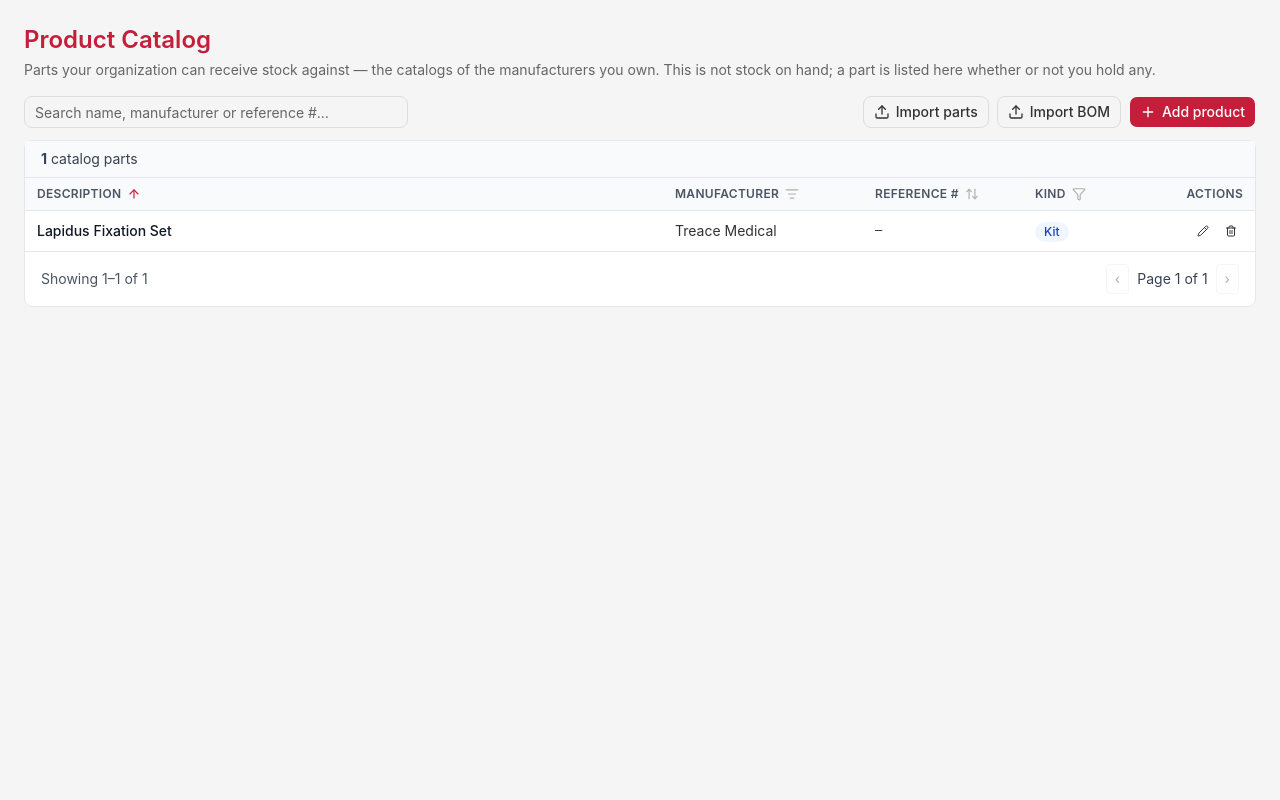
removing a part › keeps the dialog open on a 409 so the reason can be read
The width and height of the screenshot is (1280, 800).
Check: the link "Lapidus Fixation Set" is shown, box top-left (37, 222), bottom-right (172, 239)
Click the button named "Remove Lapidus Fixation Set" at coordinates (1231, 231), box top-left (1219, 219), bottom-right (1243, 243)
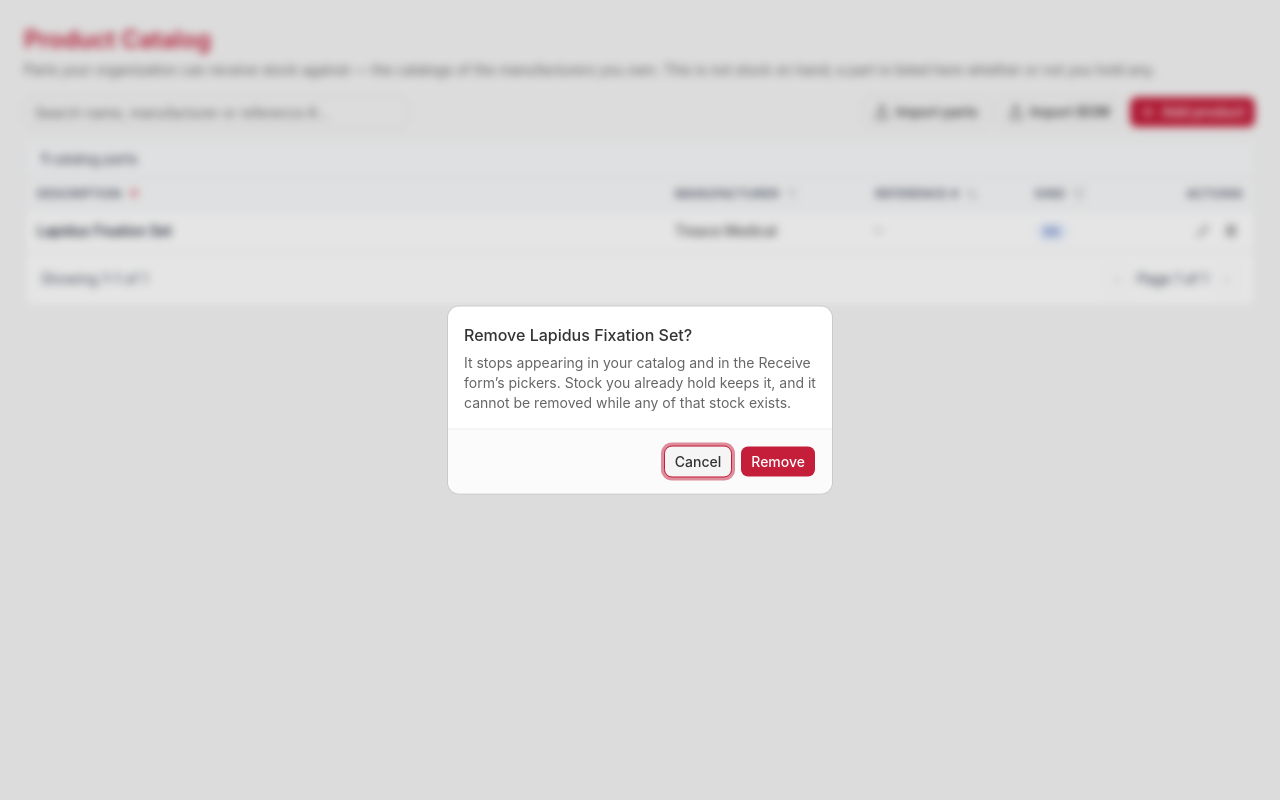
Click the button "Remove" at coordinates (778, 462), box top-left (740, 446), bottom-right (816, 478)
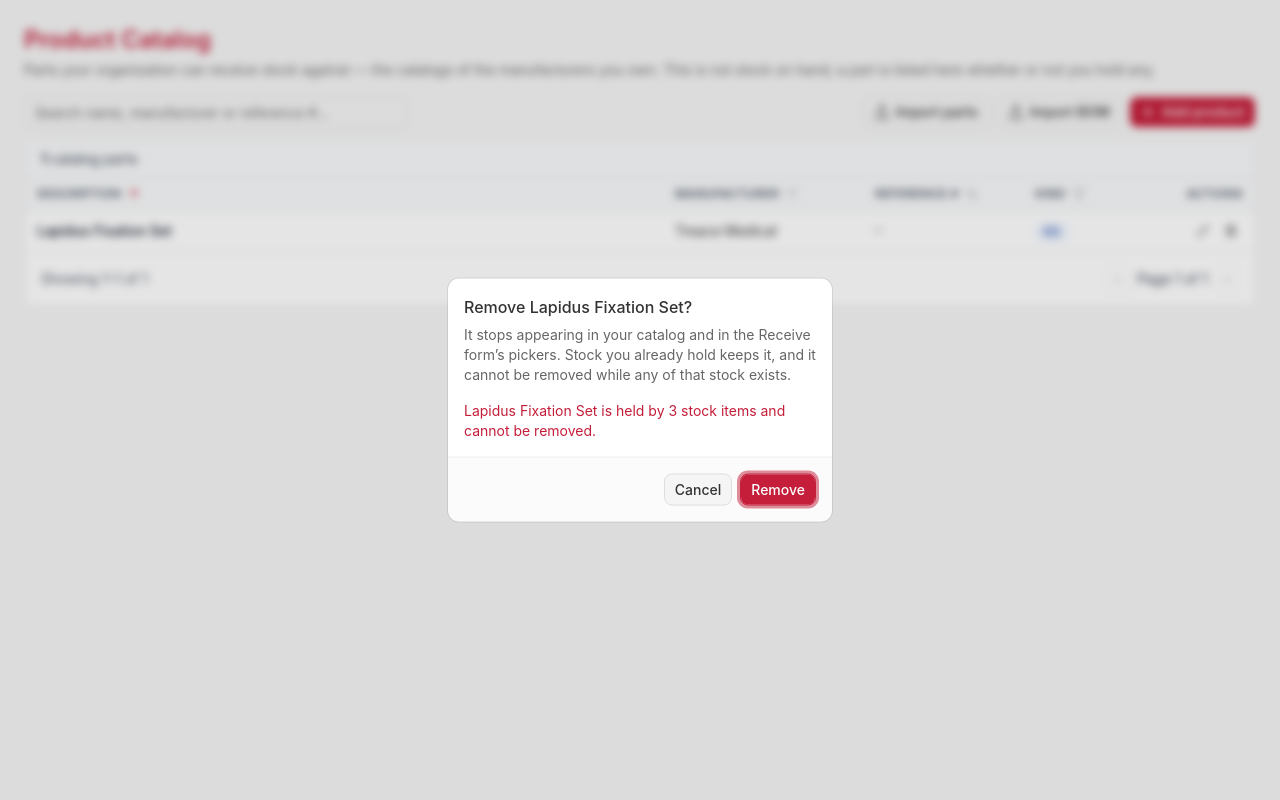
Check: the heading "Remove Lapidus Fixation Set?" is shown, box top-left (464, 294), bottom-right (692, 318)
Check: the text "Lapidus Fixation Set is held by 3 stock items and cannot be removed." is shown, box top-left (464, 400), bottom-right (816, 440)
